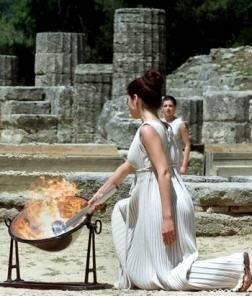fire: (7, 173, 87, 239)
